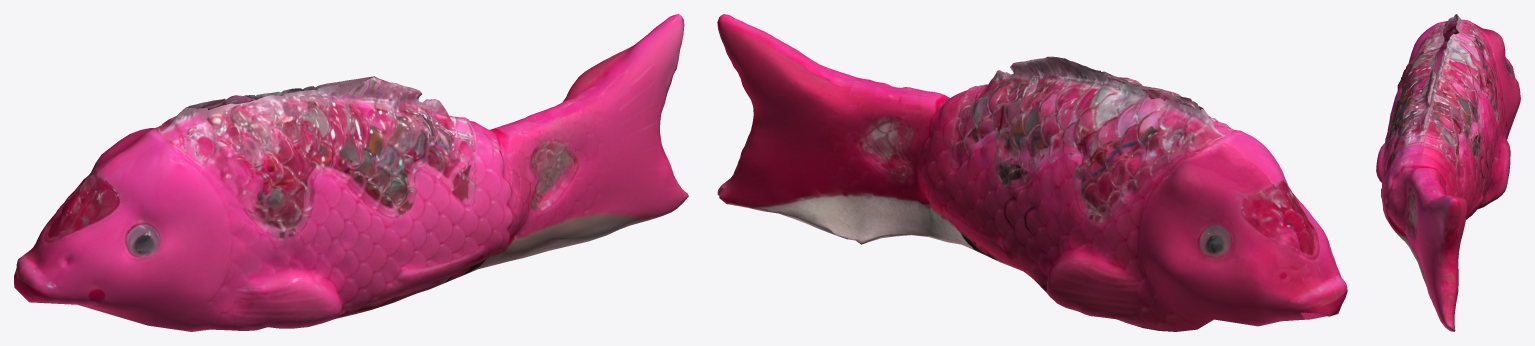
Rendered from fish.obj.
3 renders of one model, left to right at view 1: azimuth 30°, elevation 25°; view 2: azimuth 150°, elevation 25°; view 3: azimuth 270°, elevation 25°, orthographic. The views are drawn at different scales.
Visible parts, largest first — view 1: mesh_0; view 2: mesh_0; view 3: mesh_0.
Boxes of the visible parts, <box> form: mesh_0: <box>14,14,688,331</box>; mesh_0: <box>717,14,1347,331</box>; mesh_0: <box>1376,14,1520,331</box>.
Bounding box in the file's own units: 0.2233 × 0.0742 × 0.0617.
1 material, 1 textured.
